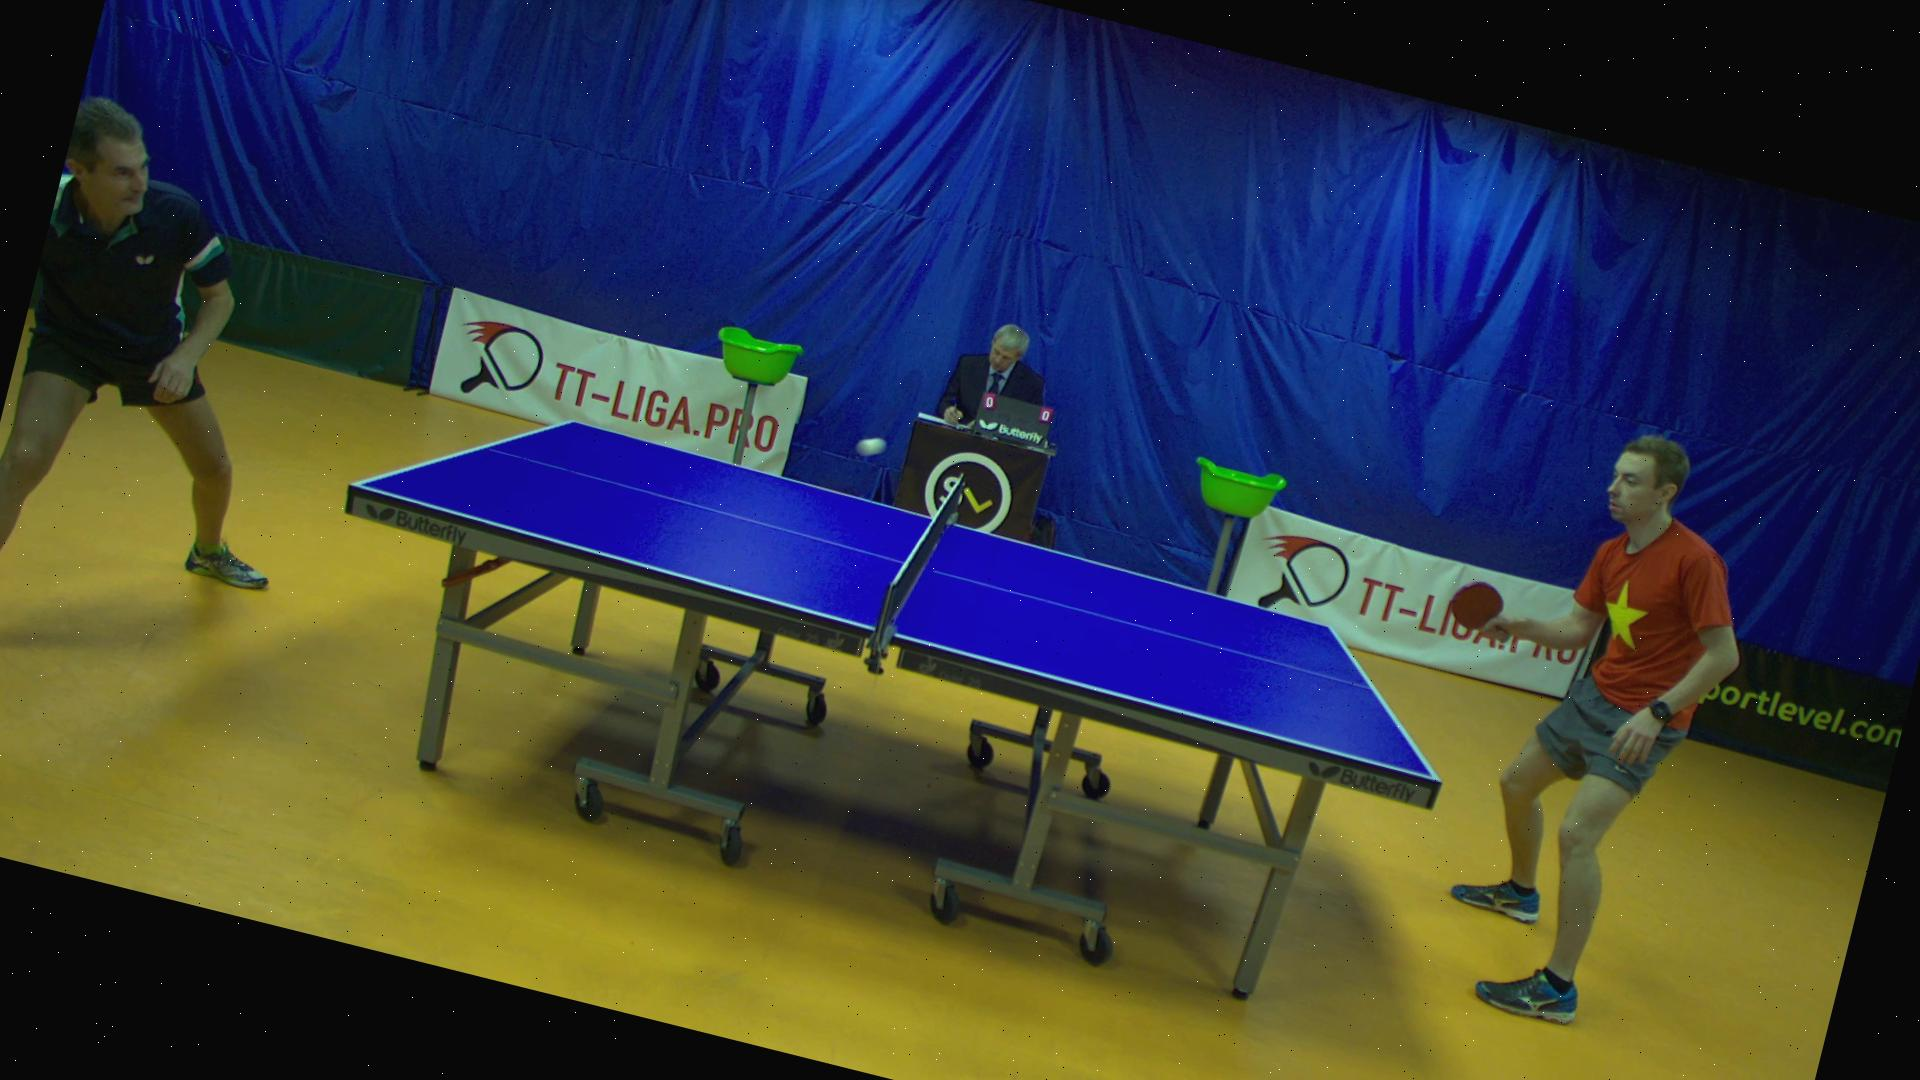ball: (844, 423, 895, 472)
